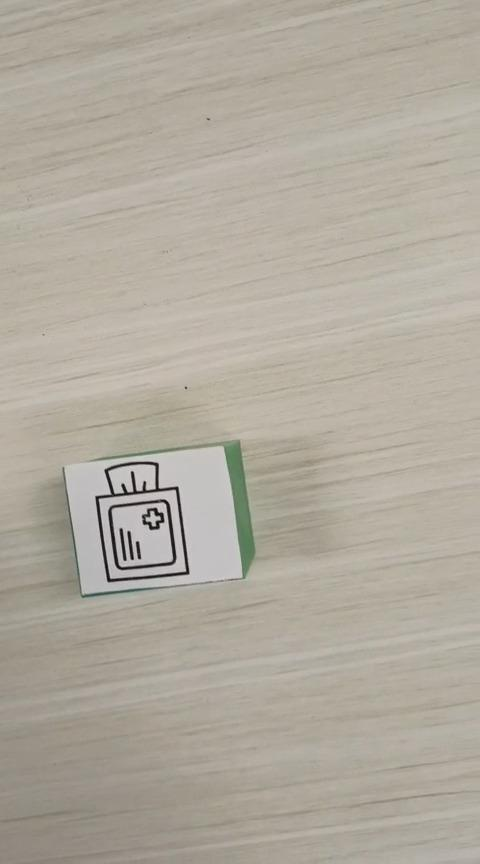Gauze: (61, 437, 256, 597)
